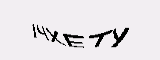І: (27, 19, 39, 38)
Е: (61, 28, 89, 49)
Т: (88, 26, 113, 49)
У: (111, 26, 135, 54)
Х: (47, 28, 64, 49)
Ч: (35, 21, 48, 40)
